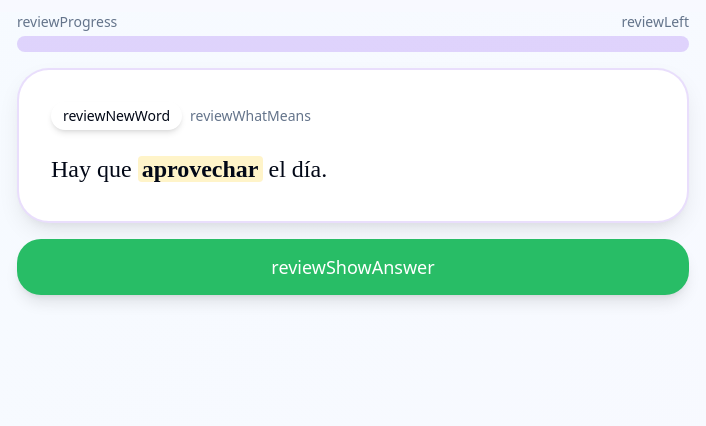
Test: ReviewSession › offers exactly two answers once the answer is shown
The width and height of the screenshot is (706, 426).
Click the button "reviewShowAnswer" at x=353, y=267, box [17,239,689,295]
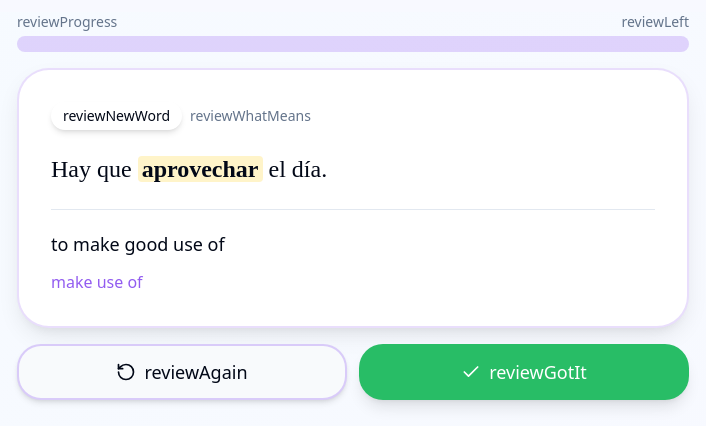
Expected: the text with test id "review-meaning" reads "to make good use of", [51,232,225,256]
Expected: the text with test id "review-gloss" reads "make use of", [51,271,143,293]
Expected: the buttons read "reviewAgain", "reviewGotIt", in this order, [17,344,347,400]; [359,344,689,400]
